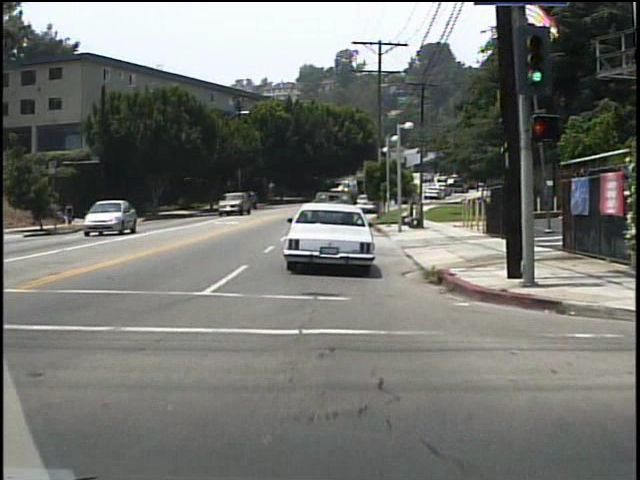person: (66, 203, 78, 229)
